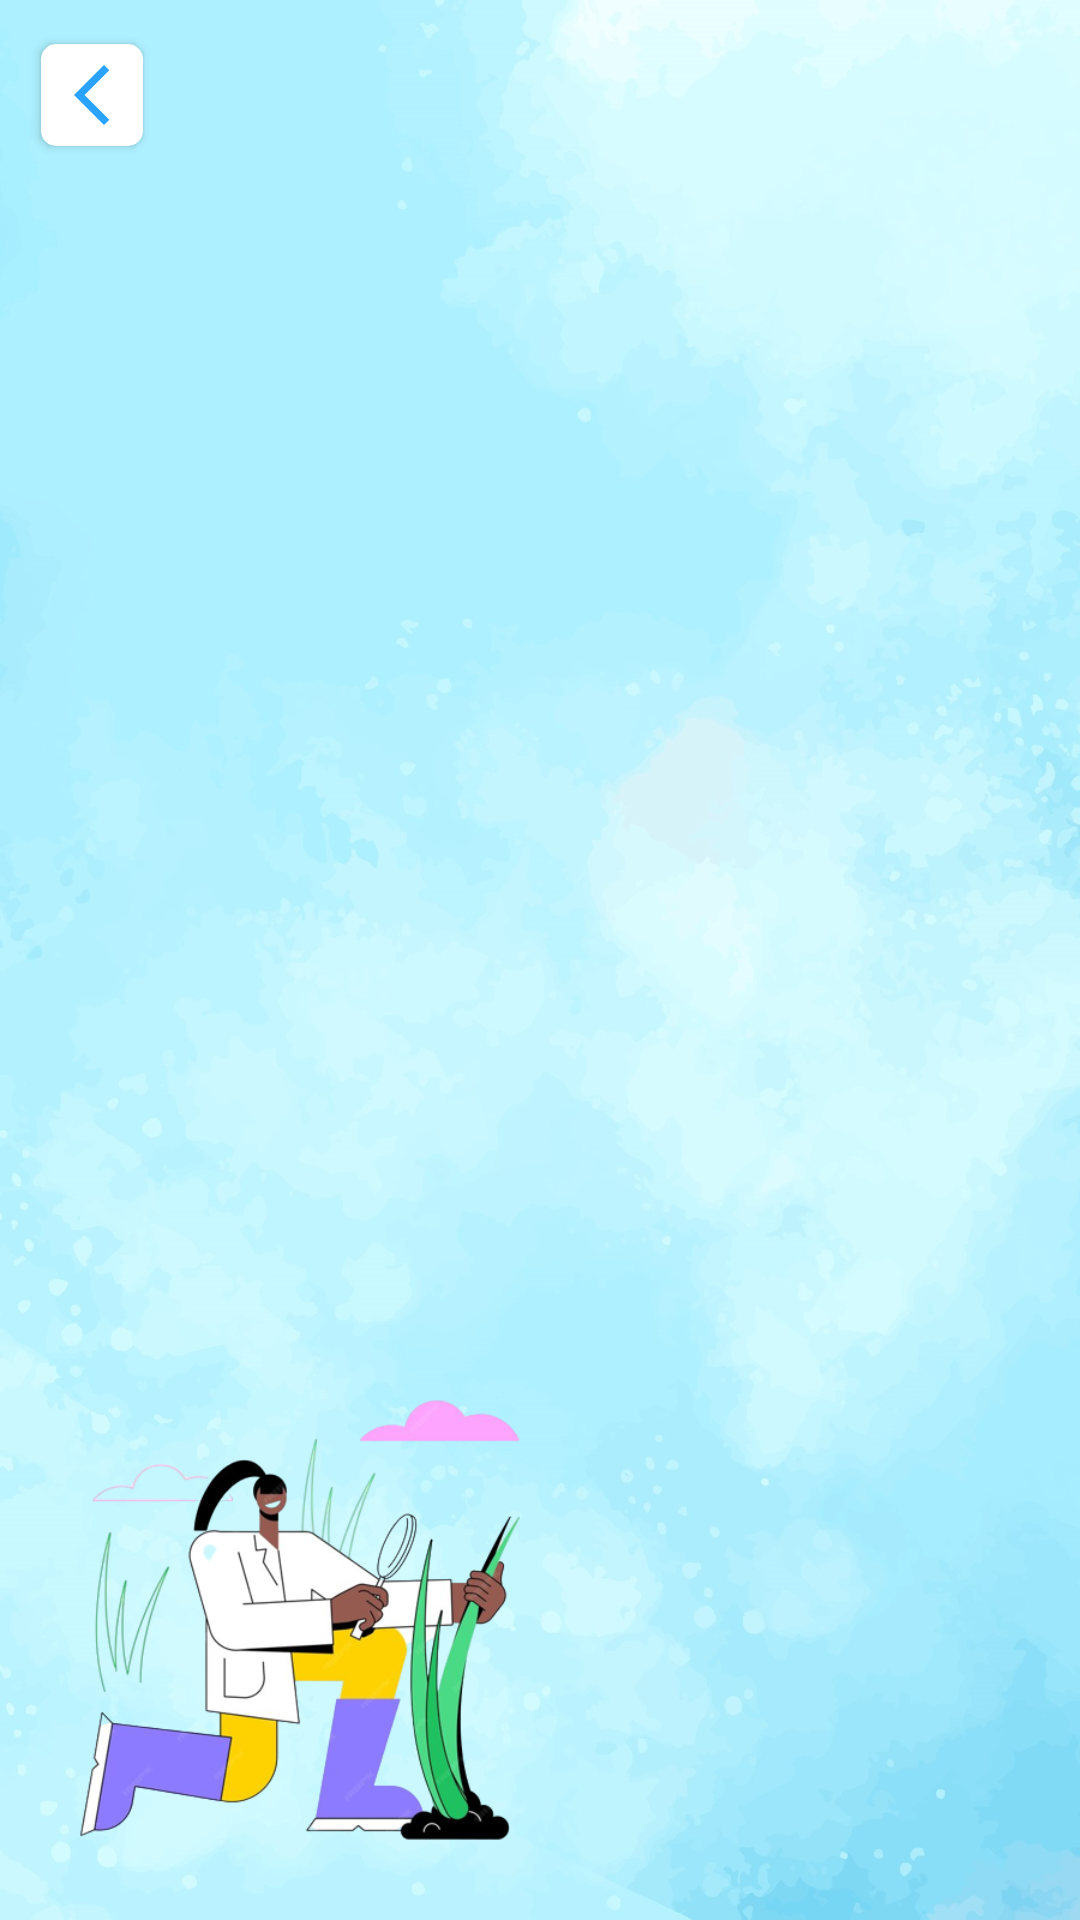

Icon click points for this 1080w x 1920h phone screenshot, format (x,y):
arrow back: (91,95)
